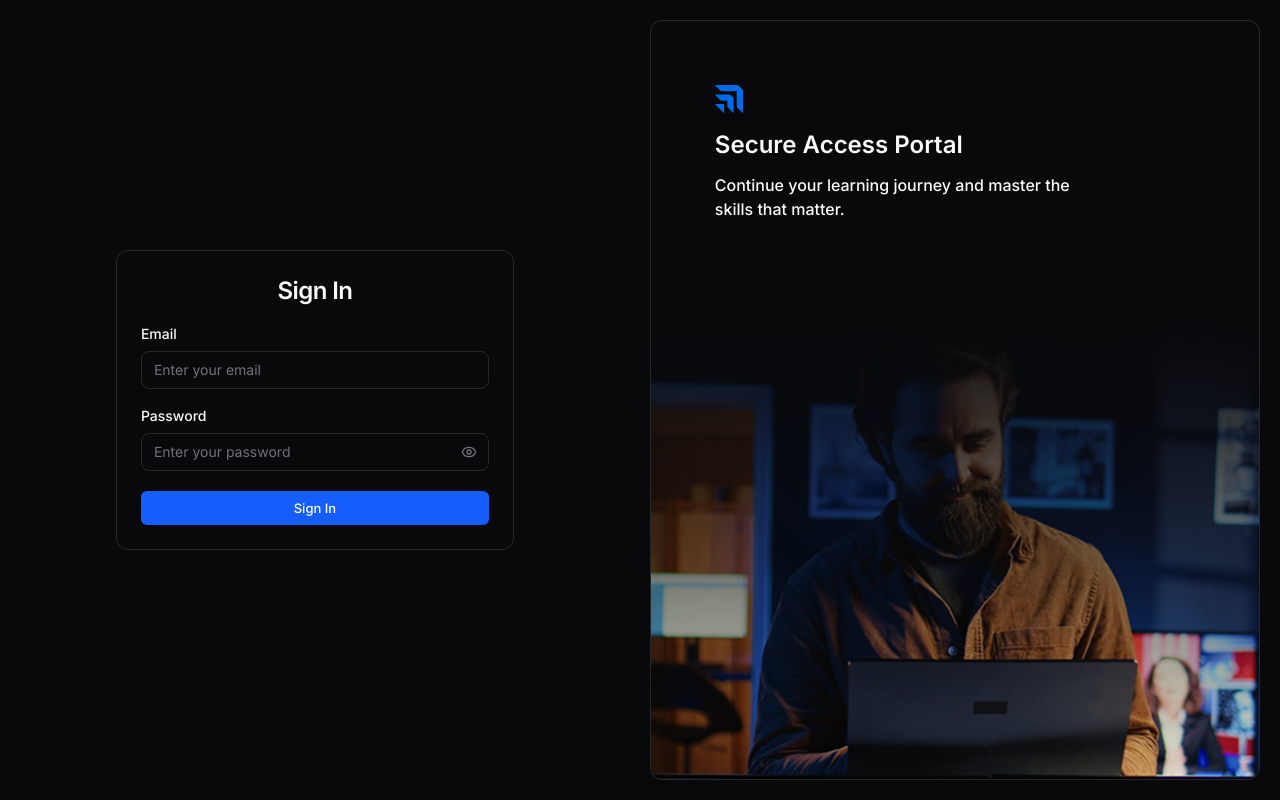
Scenario: LoginPage Integration › Form & Input Validation › displays validation errors when email format and password length are invalid
The width and height of the screenshot is (1280, 800).
Type "invalid-email" into the field labelled "Email".
click(315, 370); type("invalid-email")  # box [141,351,489,389]
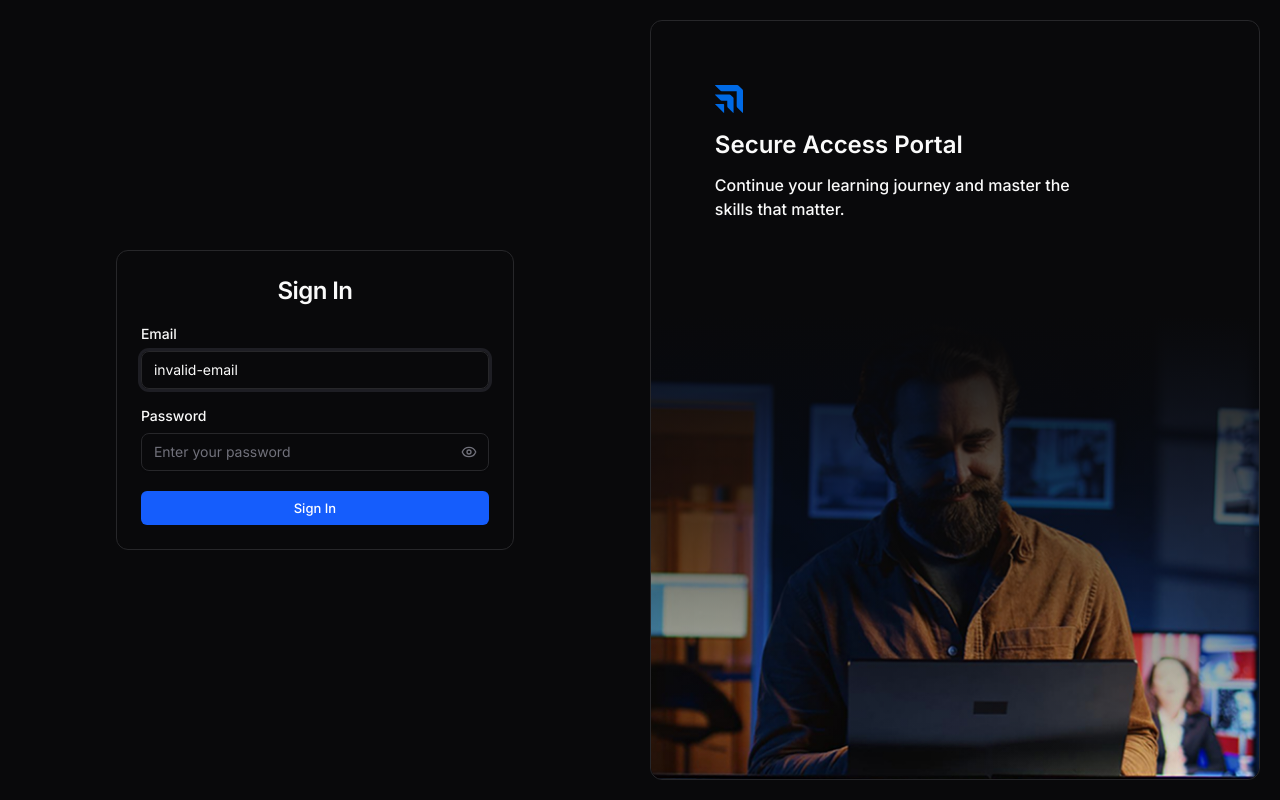
Type "123" into the password field labelled "Password".
click(315, 452); type("123")  # box [141,433,489,471]
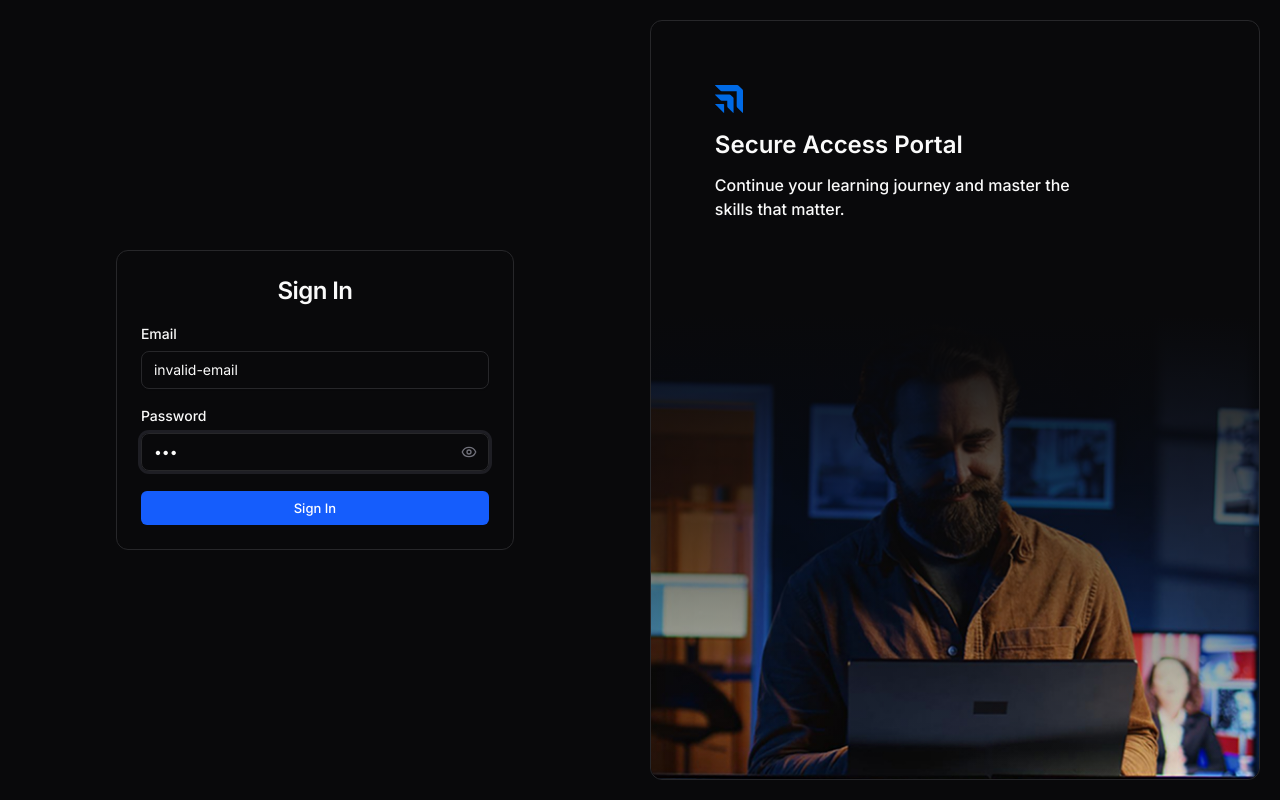
Click the button "Sign In".
click(315, 508)  # box [141,491,489,525]
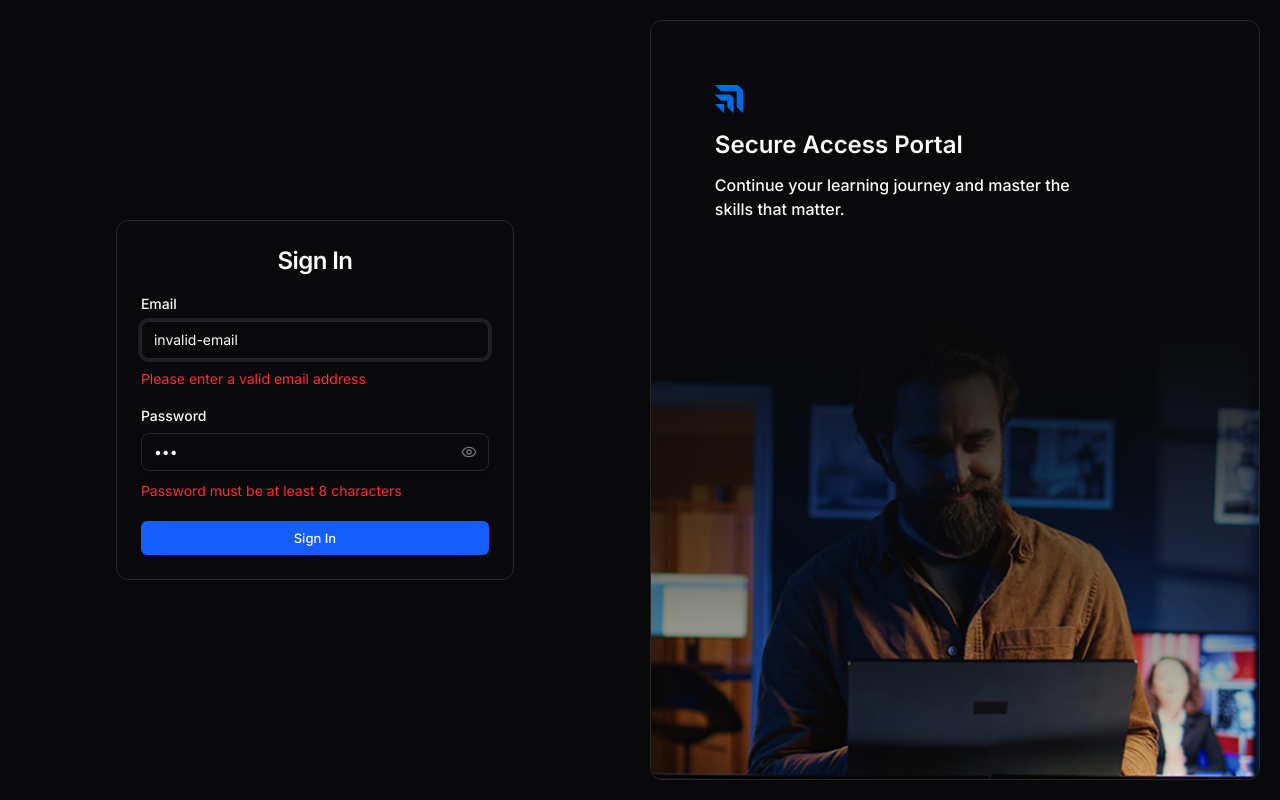
expect the text "Please enter a valid email address" is shown: met, box [141,370,366,387]
expect the text "Password must be at least 8 characters" is shown: met, box [141,482,402,499]
